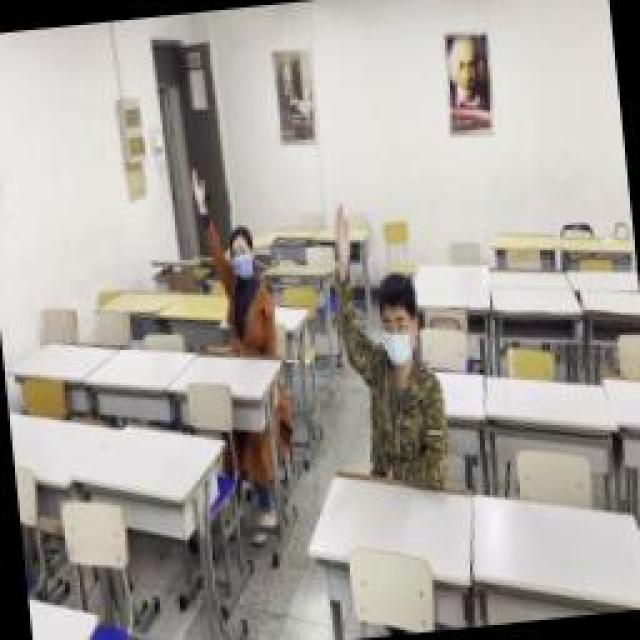study: (327, 202, 445, 480), (188, 162, 272, 352)
